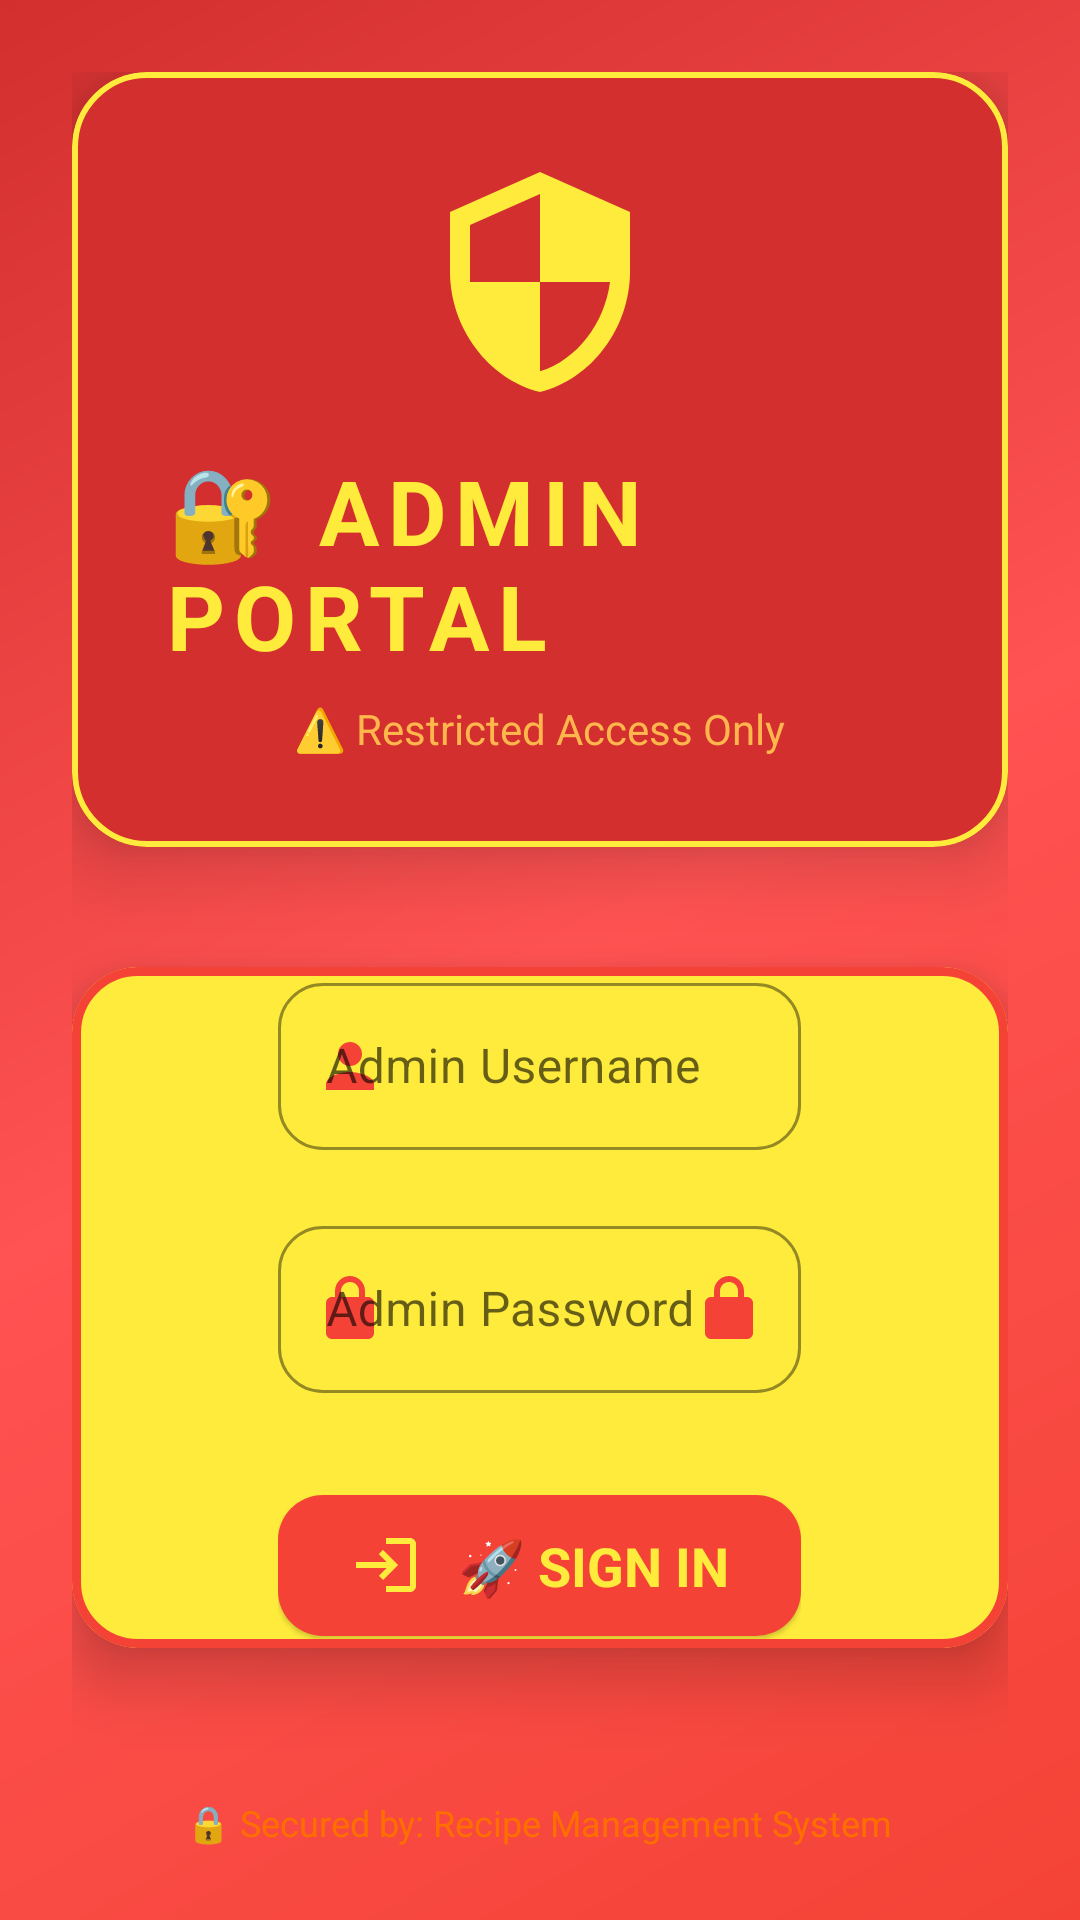

Point at icon controls on the screen. Image size 1080*1920, points as [x,y].
admin shield: [540,282]
